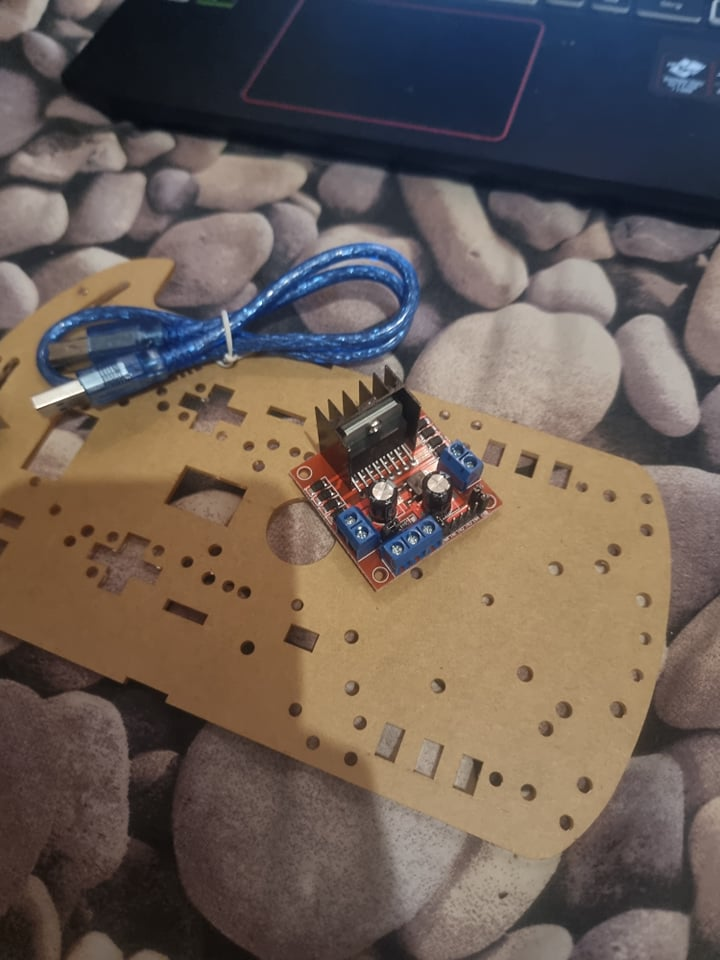MOTOR: (288, 368, 503, 595)
